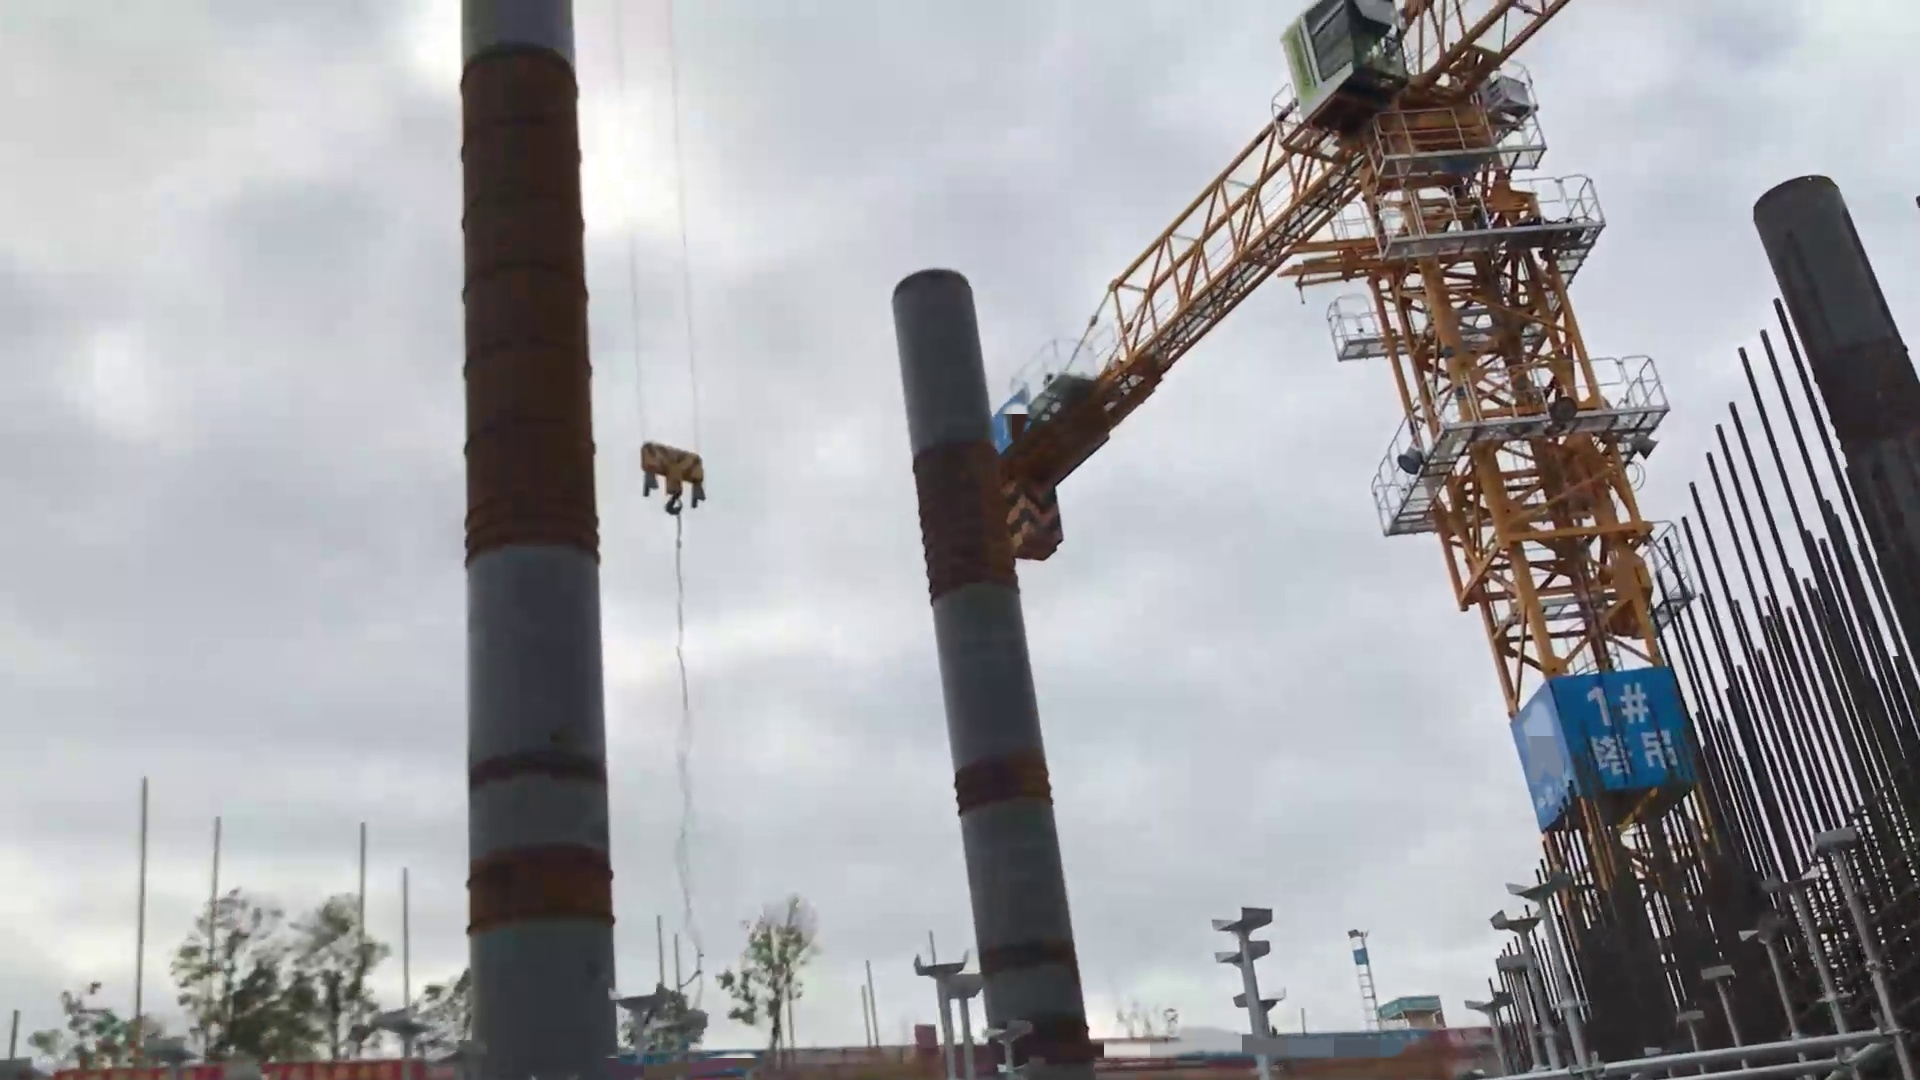hook: (633, 435, 715, 526)
